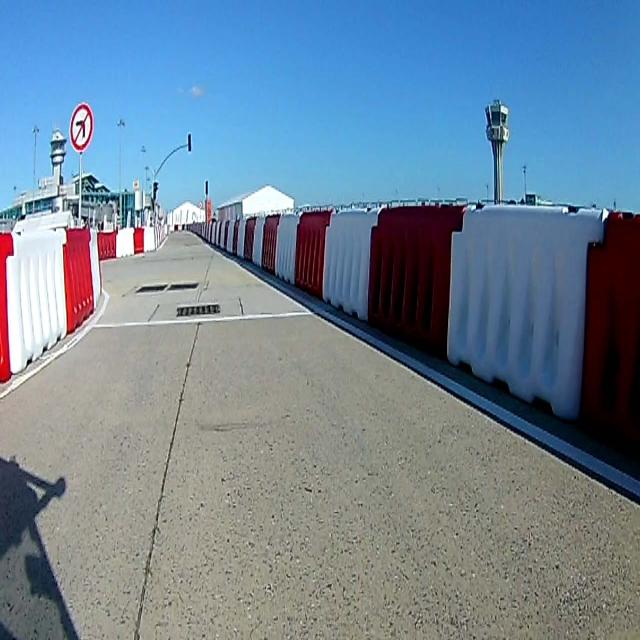soladonulmez: (70, 102, 94, 151)
